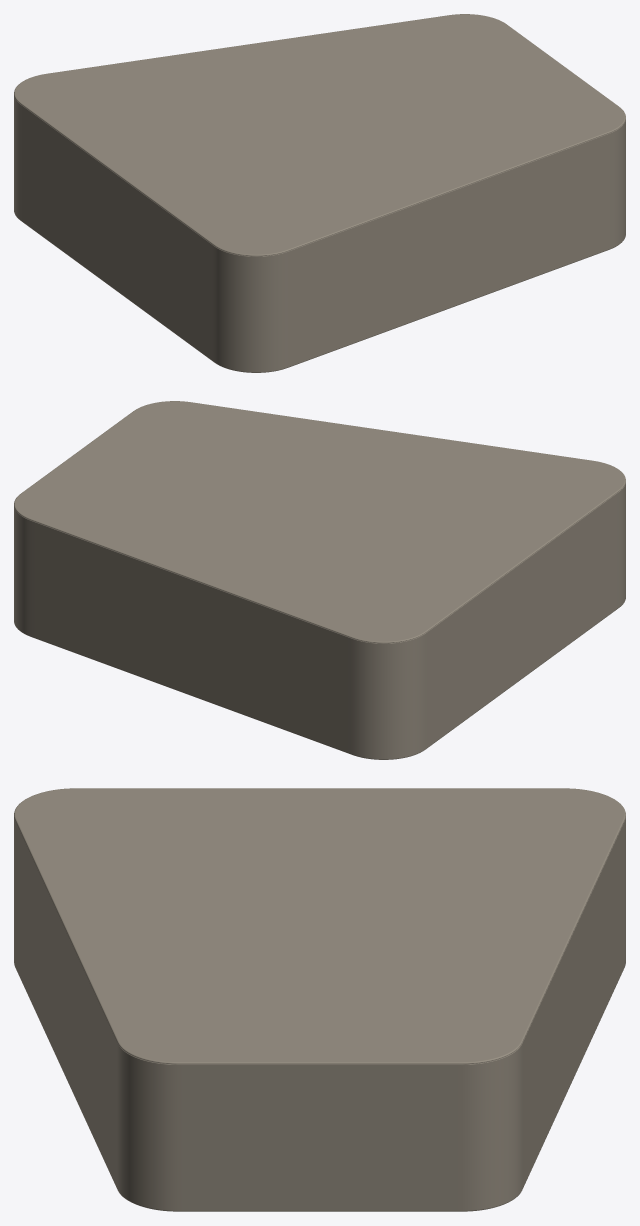
Rendered from Molteni_Mayfair_Table_V1_mat(2).fbx.
3 views of the same model, one above another, from view 1: azimuth 30°, elevation 25°; view 2: azimuth 150°, elevation 25°; view 3: azimuth 270°, elevation 25° (orthographic). The views are drawn at different scales.
Parts seen in each view (by area): view 1: Molteni_Mayfair_Table_V1_mat2; view 2: Molteni_Mayfair_Table_V1_mat2; view 3: Molteni_Mayfair_Table_V1_mat2.
Part boxes in pixels (x1,y1,x2,y2): Molteni_Mayfair_Table_V1_mat2: (14,14,625,372); Molteni_Mayfair_Table_V1_mat2: (14,401,625,759); Molteni_Mayfair_Table_V1_mat2: (14,788,625,1211).
Bounding box in the file's own units: 85 × 80 × 24.
